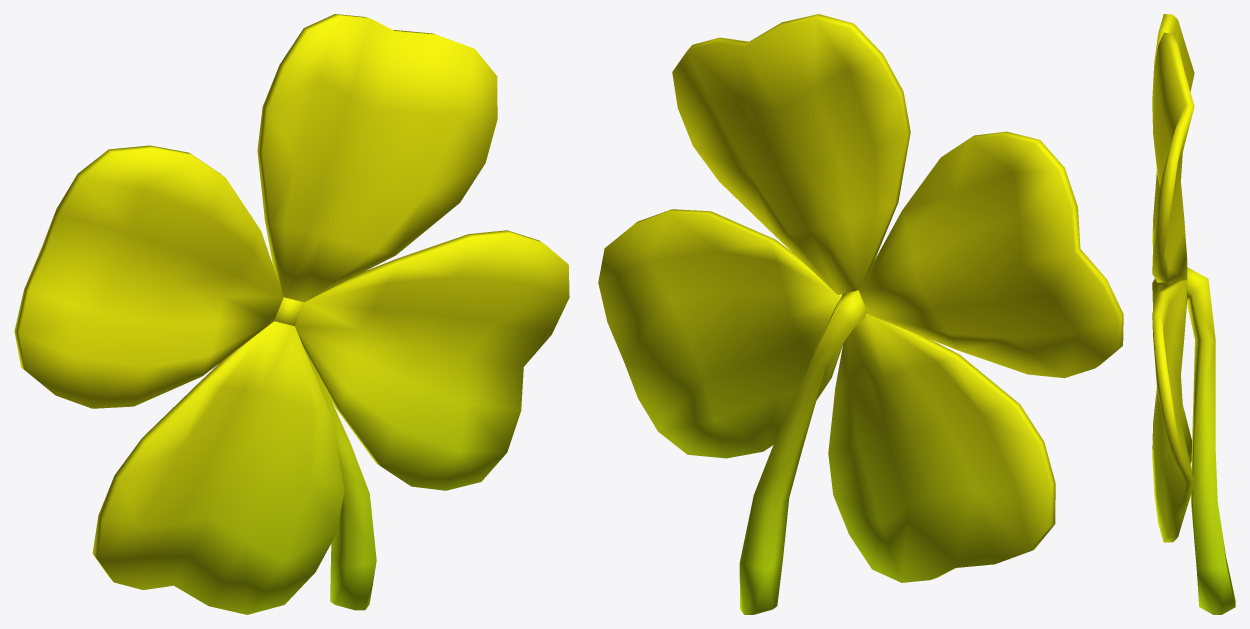
Rendered from Clover.glb.
The picture shows the model from 3 angles, left to right: view 1: azimuth 30°, elevation 25°; view 2: azimuth 150°, elevation 25°; view 3: azimuth 270°, elevation 25°; orthographic projection. The views are drawn at different scales.
Parts seen in each view (by area): view 1: Clover; view 2: Clover; view 3: Clover.
Boxes of the visible parts, <box> form: Clover: <box>14,14,569,614</box>; Clover: <box>598,14,1123,614</box>; Clover: <box>1152,14,1235,614</box>.
Size of the model in its own units: 0.4512 by 0.4856 by 0.067.
Materials: 1 (1 with a texture image).
